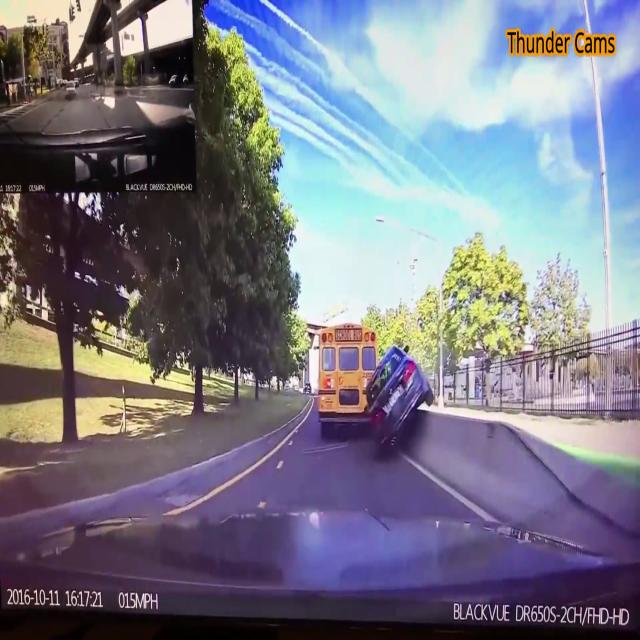accident: (360, 341, 440, 457)
